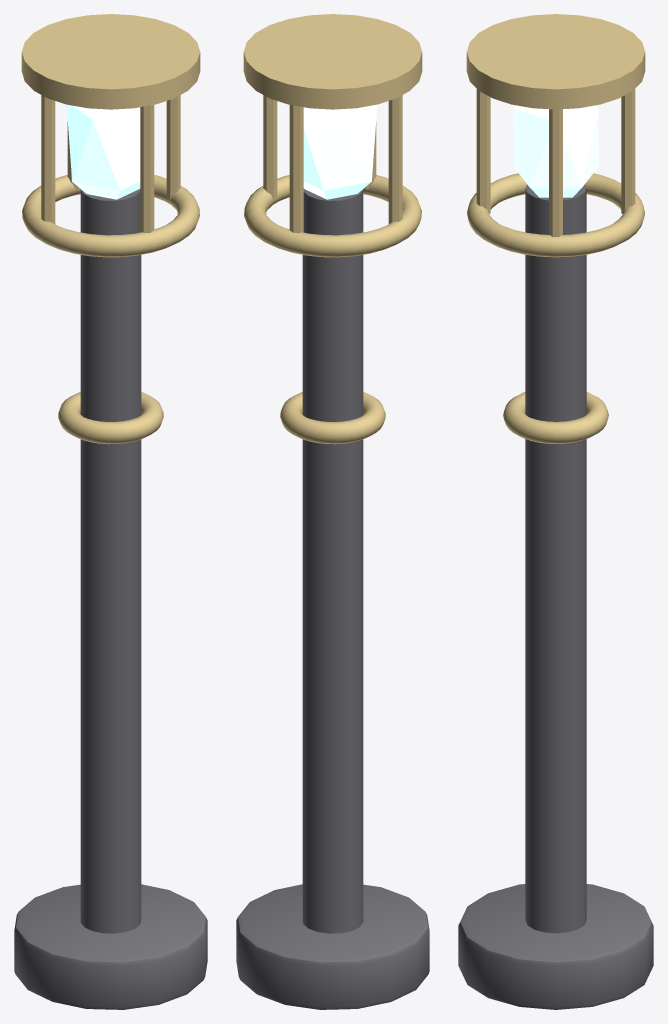
The model's file is PosteArcano.fbx.
The picture shows the model from 3 angles, left to right: view 1: azimuth 30°, elevation 25°; view 2: azimuth 150°, elevation 25°; view 3: azimuth 270°, elevation 25°; orthographic projection.
Visible parts, largest first — view 1: PosteArcano; view 2: PosteArcano; view 3: PosteArcano.
Part boxes in pixels (x1,y1,x2,y2): PosteArcano: (14, 14, 207, 1009); PosteArcano: (236, 14, 429, 1009); PosteArcano: (458, 14, 653, 1009).
Size of the model in its own units: 0.7 by 3.64 by 0.7.
